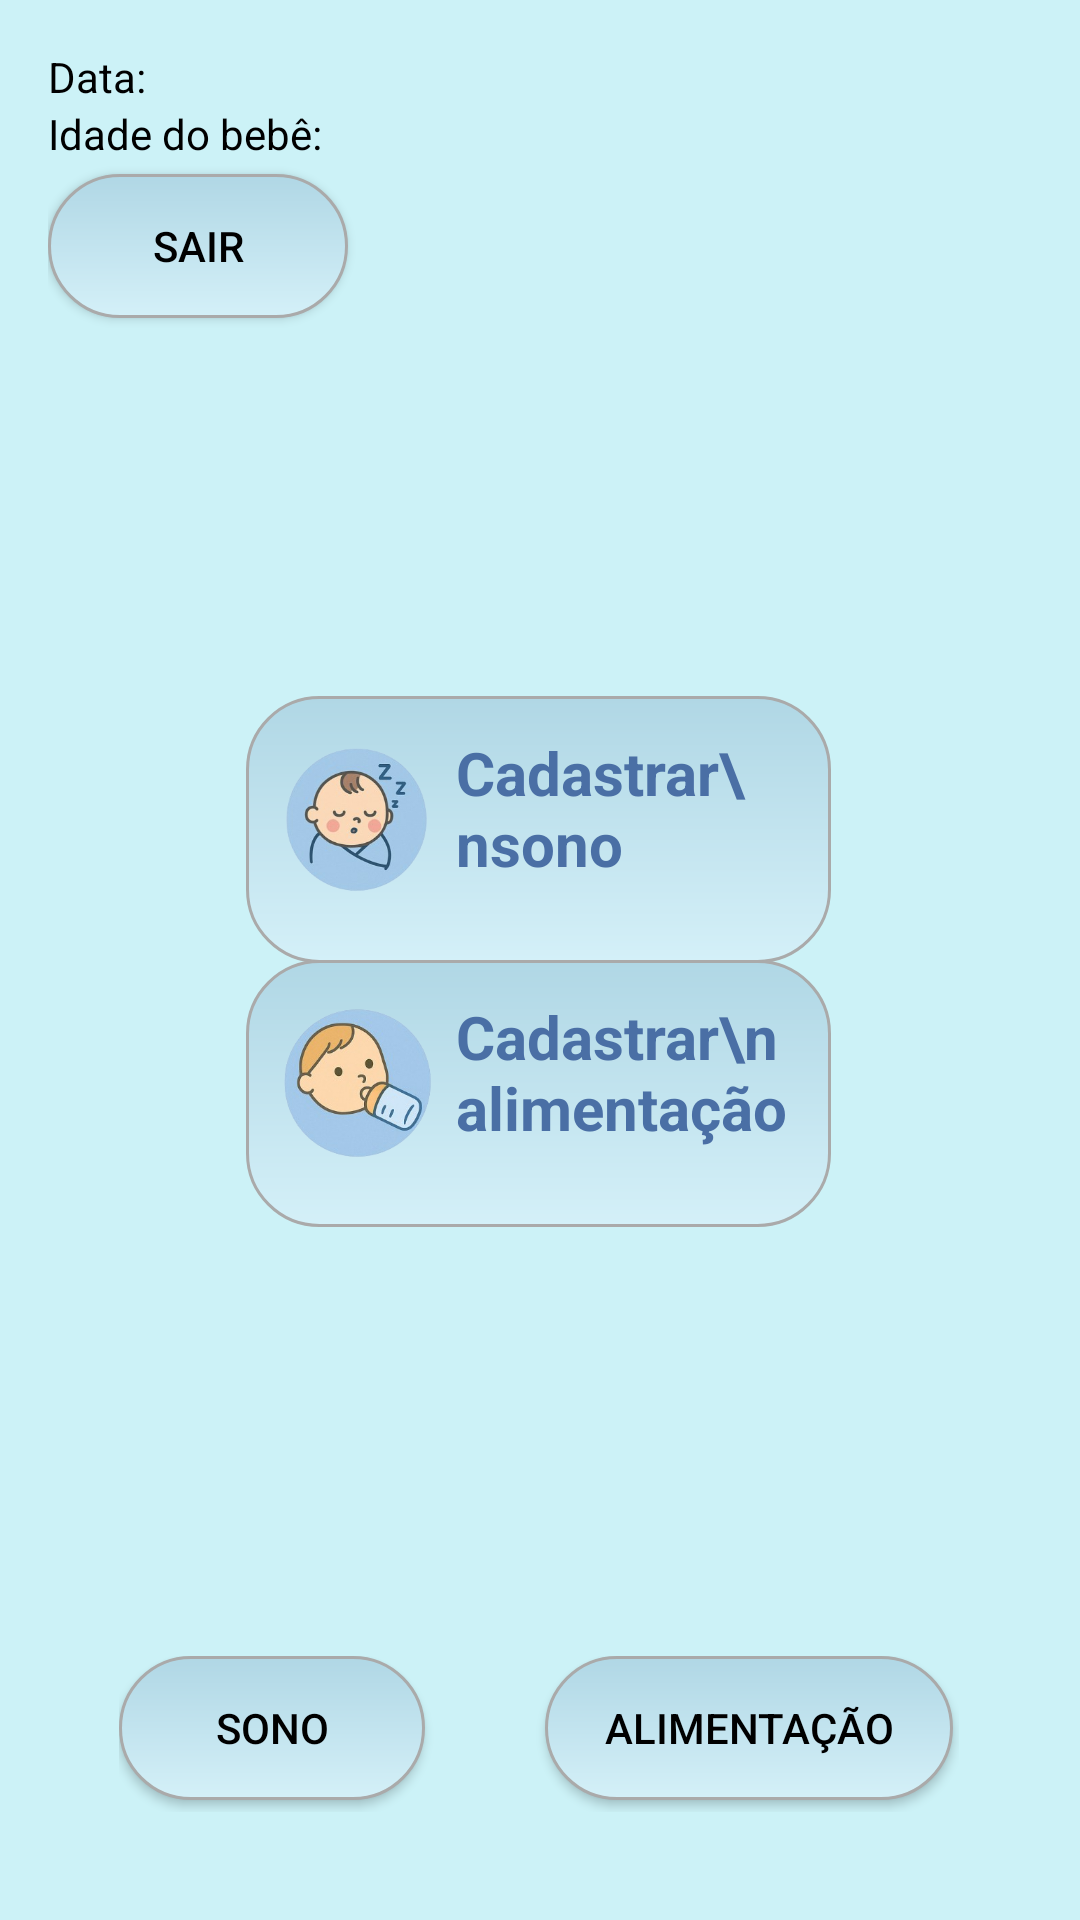

Named icons in this screenshot (1080px×1920px) and their bounding boxes, Rect(x1, y1, x2, y2):
bebe alimentacao: Rect(285, 1009, 431, 1157)
bebe sono: Rect(287, 749, 427, 891)
